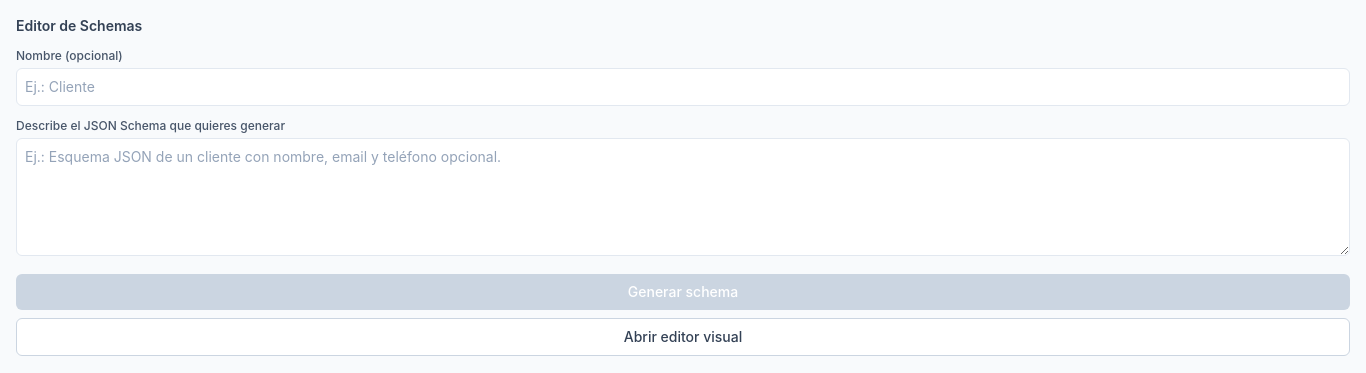
DeveloperSchemaPanel › abre el editor visual y muestra el árbol editable
Click the button "Abrir editor visual" at [683, 337], box [16,318,1350,356]
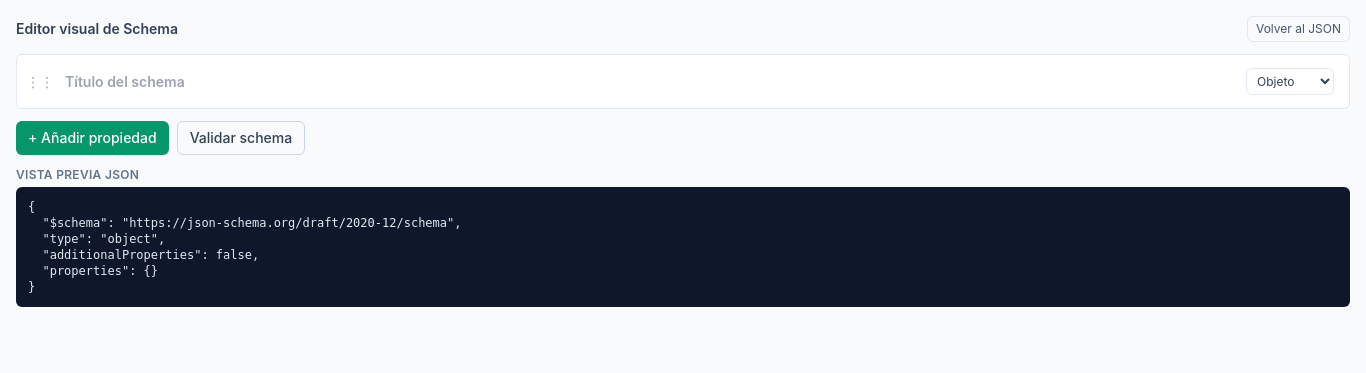
Expected: the heading "Editor visual de Schema" is shown, [16,19,178,39]
Expected: the button "+ Añadir propiedad" is shown, [16,121,169,155]
Expected: the button "Validar schema" is shown, [177,121,305,155]
